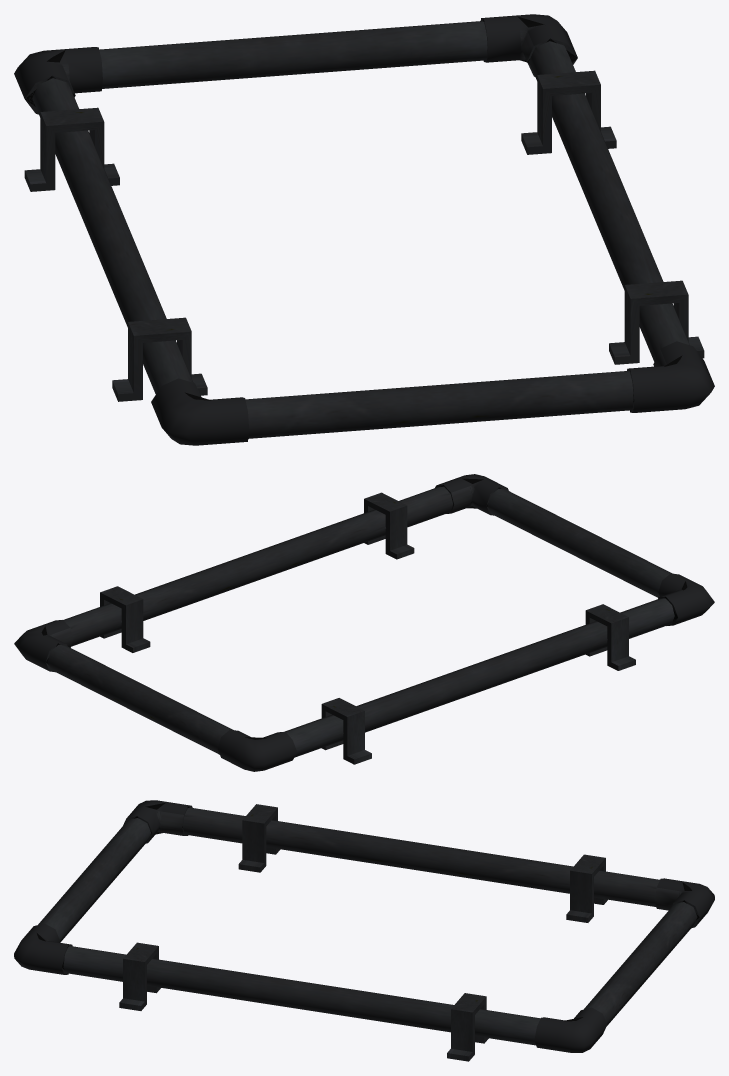
File: breaching_charge.glb
3 renders of one model, top to bottom at view 1: azimuth 30°, elevation 25°; view 2: azimuth 150°, elevation 25°; view 3: azimuth 270°, elevation 25°, orthographic. The views are drawn at different scales.
Parts seen in each view (by area): view 1: g_breaching_charge; view 2: g_breaching_charge; view 3: g_breaching_charge.
Part boxes in pixels (<box>): g_breaching_charge: <box>14,14,714,445</box>; g_breaching_charge: <box>14,474,714,771</box>; g_breaching_charge: <box>14,800,714,1061</box>.
Size of what is drawn, in the model's own units: 0.6818 by 0.0595 by 0.8442.
2 materials, 1 textured.
